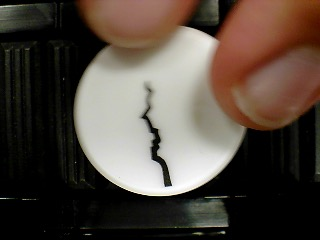CRACK: (72, 22, 249, 197)
